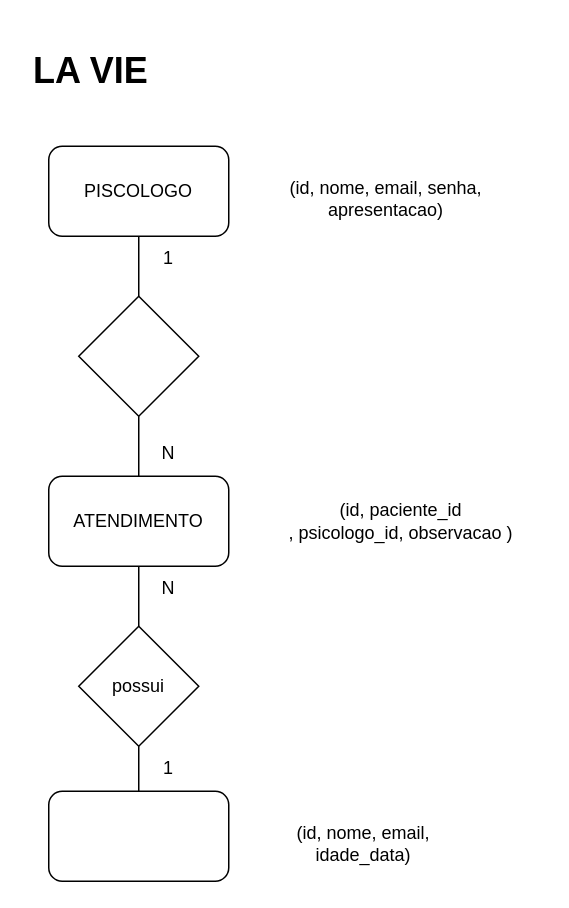
Some shapes in this 569 by 908 pixel diagram are drawn without their labels. Here are the shapes that lost their labels. From the top down, the centre of each, then its label:
At (x=138, y=355): "faz".
At (x=138, y=835): "PACIENTE".
